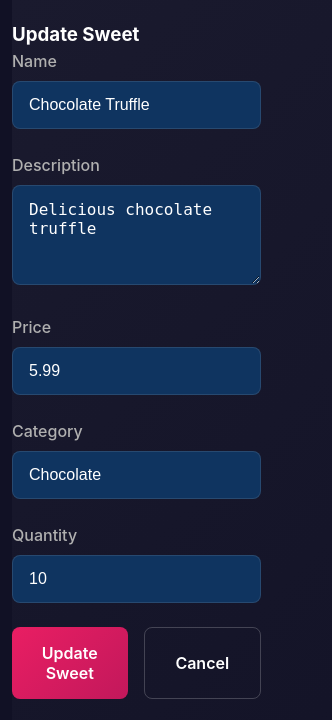
Test: UpdateSweet Component › should show validation error when price is empty
Clear the number field labelled "Price". click: point(136, 371)
box: [12,347,261,395]
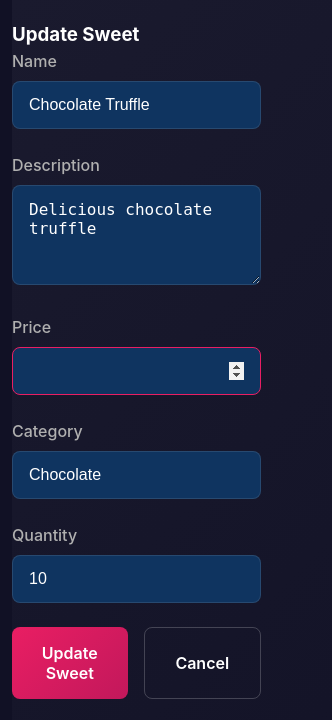
Click the button "Update Sweet". click: point(70, 663)
box: [12,627,128,699]
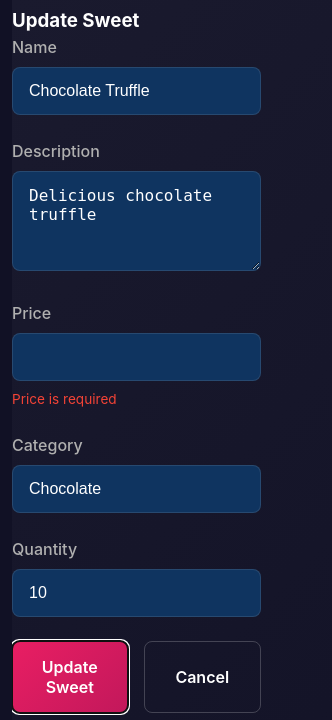
Now the text "Price is required" is shown, box [12,391,117,407]
